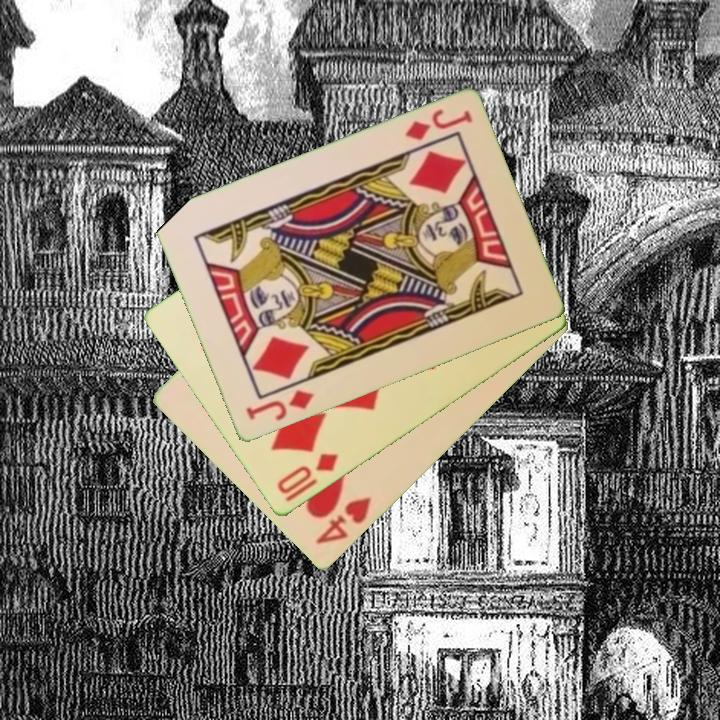10d: (273, 449, 342, 498)
4h: (312, 493, 375, 549)
Jd: (242, 386, 317, 425), (401, 105, 475, 144)
